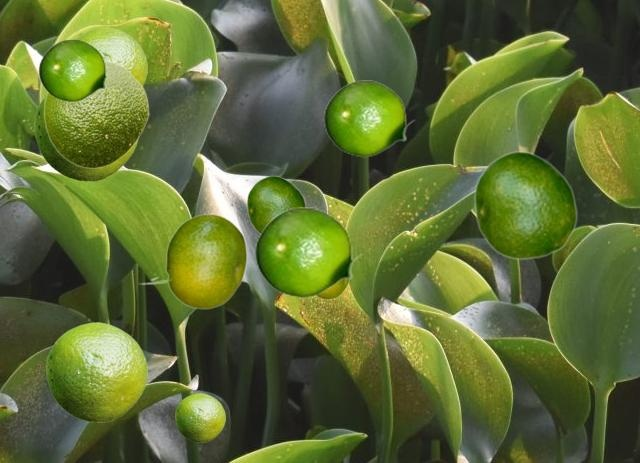calamansi: (43, 59, 148, 168), (473, 150, 577, 259), (138, 213, 246, 308), (46, 322, 146, 421), (254, 207, 363, 297), (34, 93, 138, 180), (323, 80, 415, 156), (38, 39, 113, 101), (76, 27, 146, 85), (246, 175, 306, 233), (175, 393, 224, 441), (317, 280, 349, 298)
